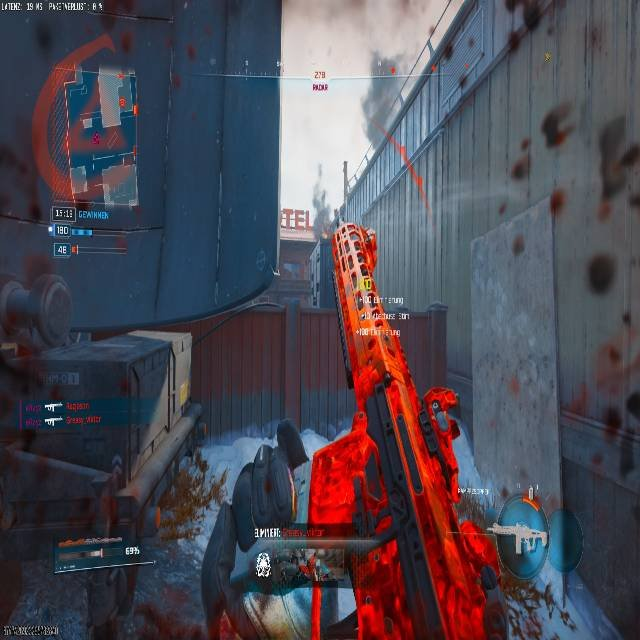player: (0, 252, 72, 433)
